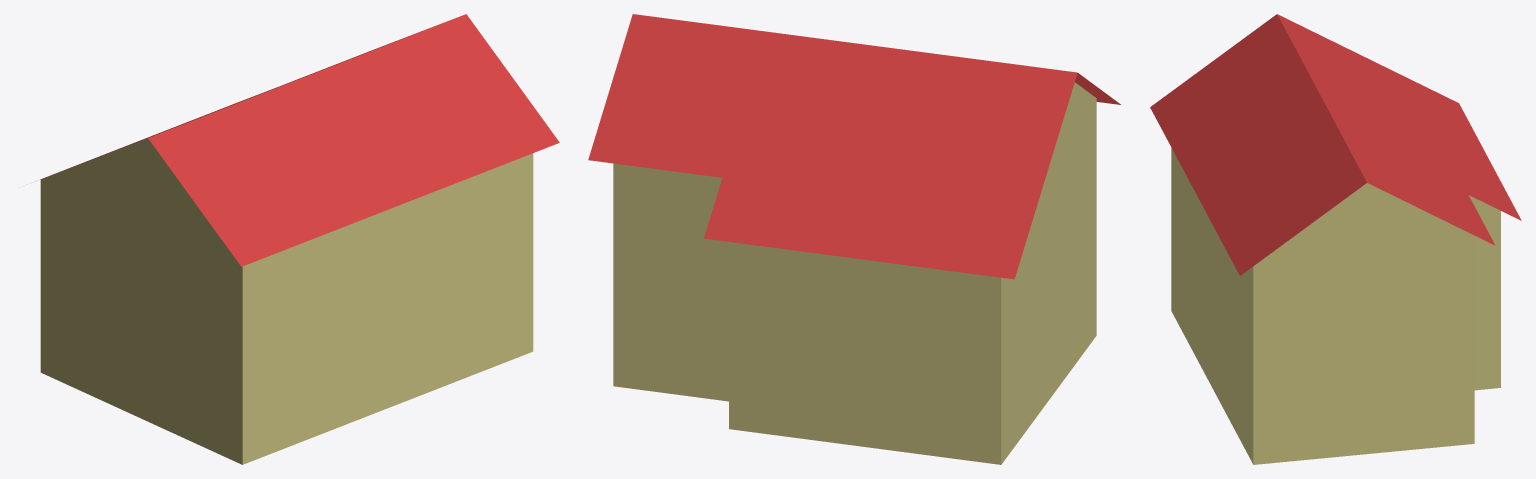
3 renders of one model, left to right at view 1: azimuth 30°, elevation 25°; view 2: azimuth 150°, elevation 25°; view 3: azimuth 270°, elevation 25°, orthographic. The views are drawn at different scales.
Size of the model in its own units: 13.24 by 10.5 by 8.69.
